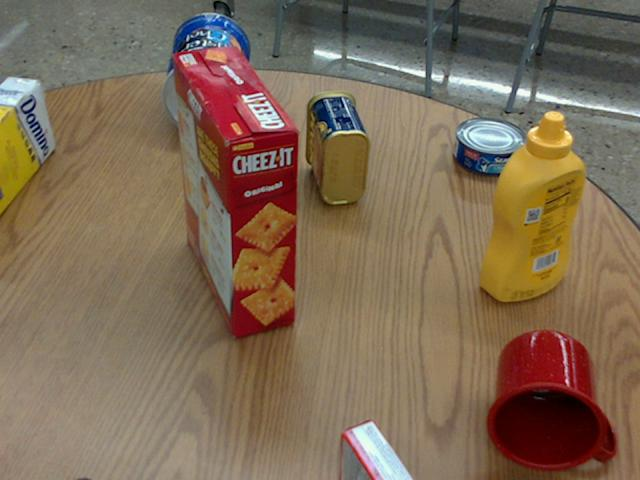cracker_box: (175, 48, 301, 337)
gelatin_box: (339, 421, 410, 479)
master_chef_can: (162, 13, 250, 136)
mug: (488, 330, 614, 470)
mustard_bottle: (479, 111, 585, 299)
potted_meat_can: (306, 89, 371, 203)
sugar_box: (0, 77, 54, 216)
tuna_fish_can: (454, 115, 526, 175)
